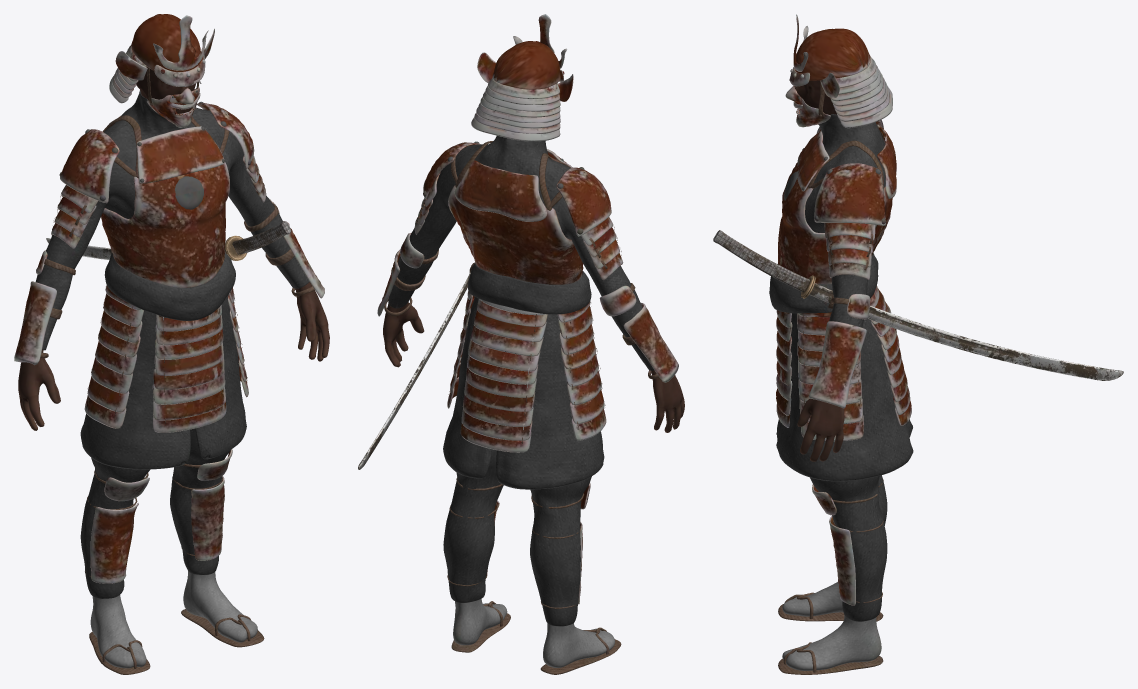
The model's file is samurai.glb.
3 views of the same model, side by side, from view 1: azimuth 30°, elevation 25°; view 2: azimuth 150°, elevation 25°; view 3: azimuth 270°, elevation 25° (orthographic). The views are drawn at different scales.
Bounding box in the file's own units: 28.14 × 56.48 × 33.58.
3 materials, 3 textured.
